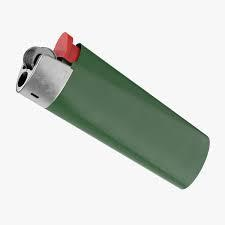lighter: (15, 31, 213, 192)
